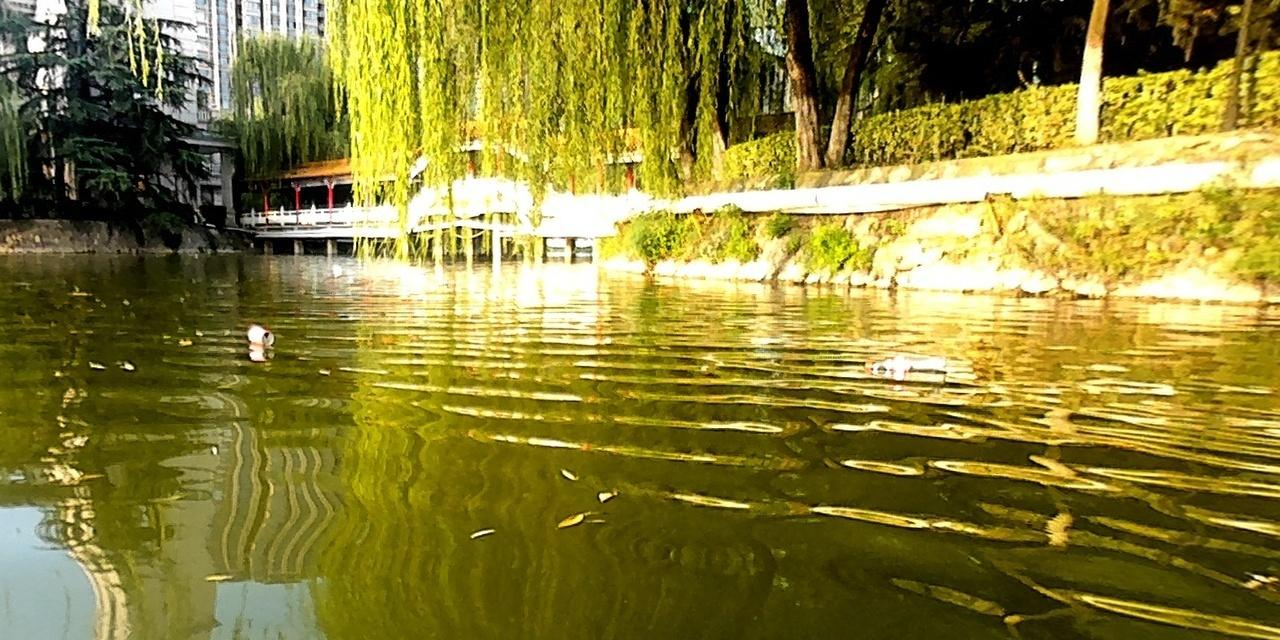bottle: (859, 352, 949, 378), (243, 321, 276, 346)
